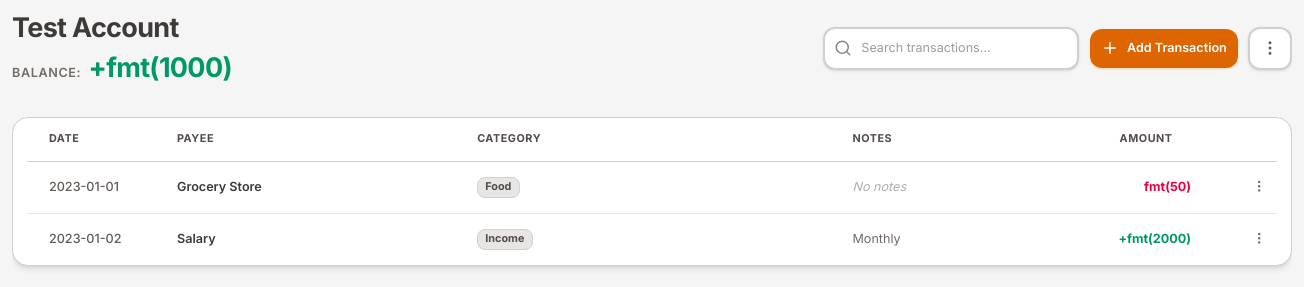
Test: AccountDetails › right-clicking a transaction row shows the context menu
This screenshot has width=1304, height=287.
Right-click the text "Grocery Store" at [652, 188], box top-left (27, 162), bottom-right (1277, 214)
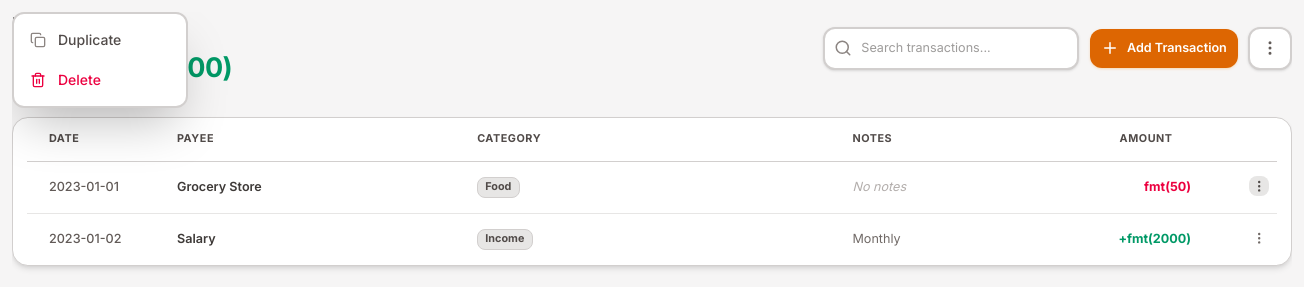
Now the button "Duplicate" is shown, box top-left (14, 20), bottom-right (186, 60)
Now the button "Delete" is shown, box top-left (14, 60), bottom-right (186, 100)
